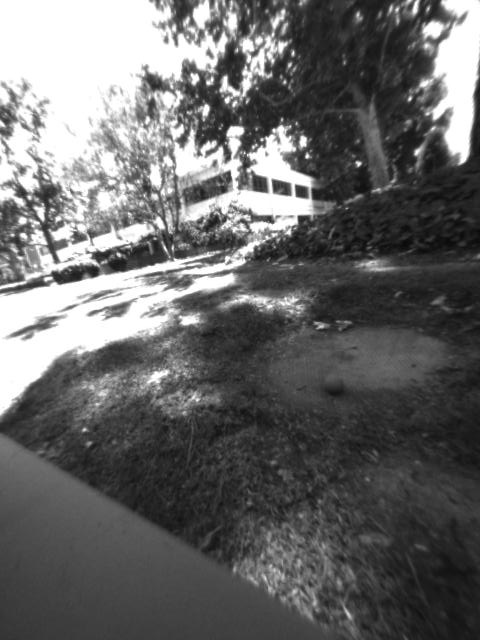dogtoy: (314, 364, 353, 400)
